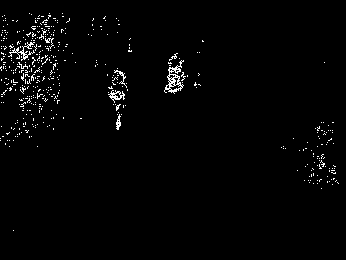person: (107, 67, 128, 131)
